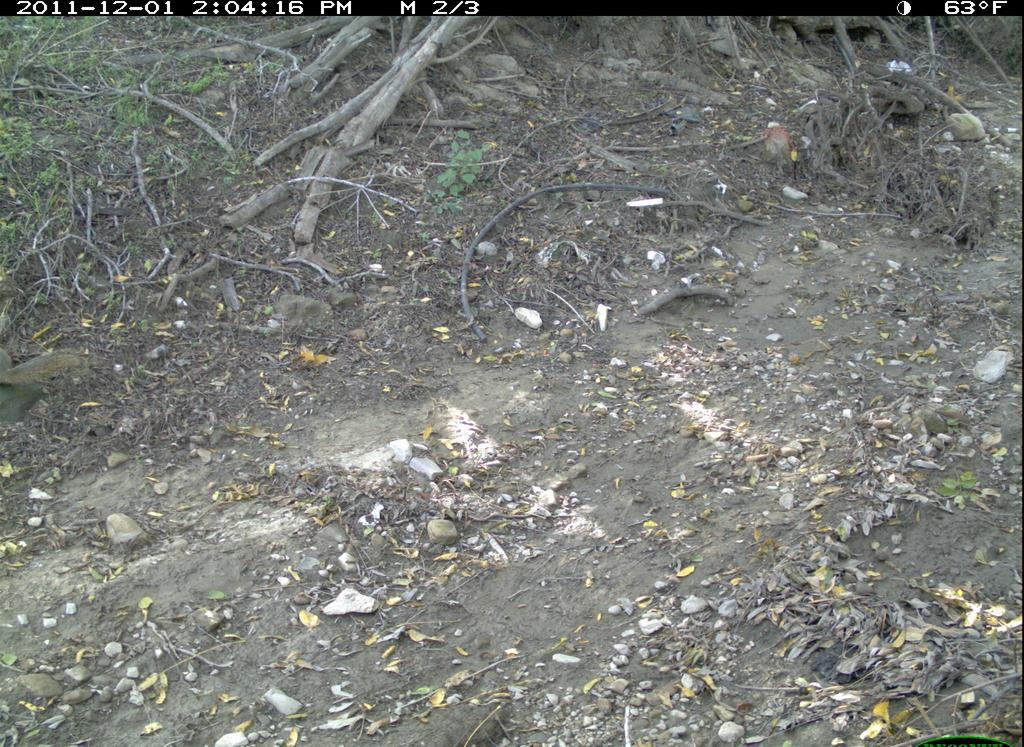squirrel: (1, 328, 91, 408)
